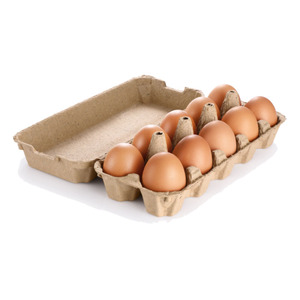egg: (104, 83, 280, 198)
